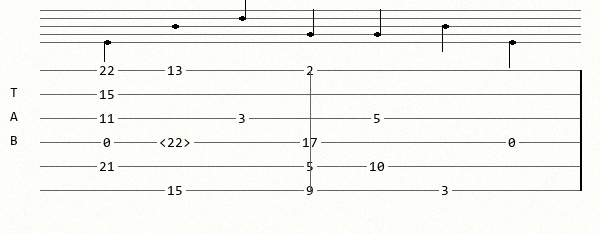0: (103, 136, 115, 149), (508, 136, 520, 149)
10: (369, 160, 389, 173)
11: (99, 112, 119, 125)
13: (167, 64, 187, 77)
15: (99, 88, 119, 101), (167, 184, 187, 197)
17: (302, 136, 322, 149)
2: (306, 64, 318, 77)
21: (99, 160, 119, 173)
22: (99, 64, 119, 77)
3: (238, 112, 250, 125), (441, 184, 453, 197)
5: (306, 160, 318, 173), (373, 112, 385, 125)
9: (306, 184, 318, 197)
harmonic: (159, 136, 195, 149)
